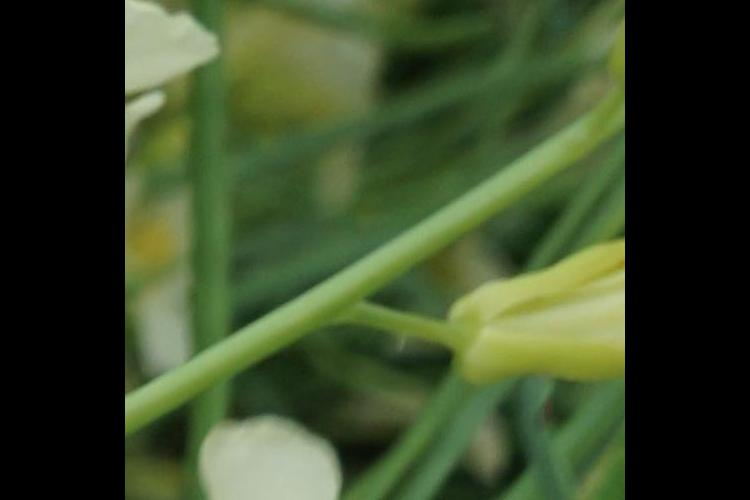white: (163, 439, 453, 500)
